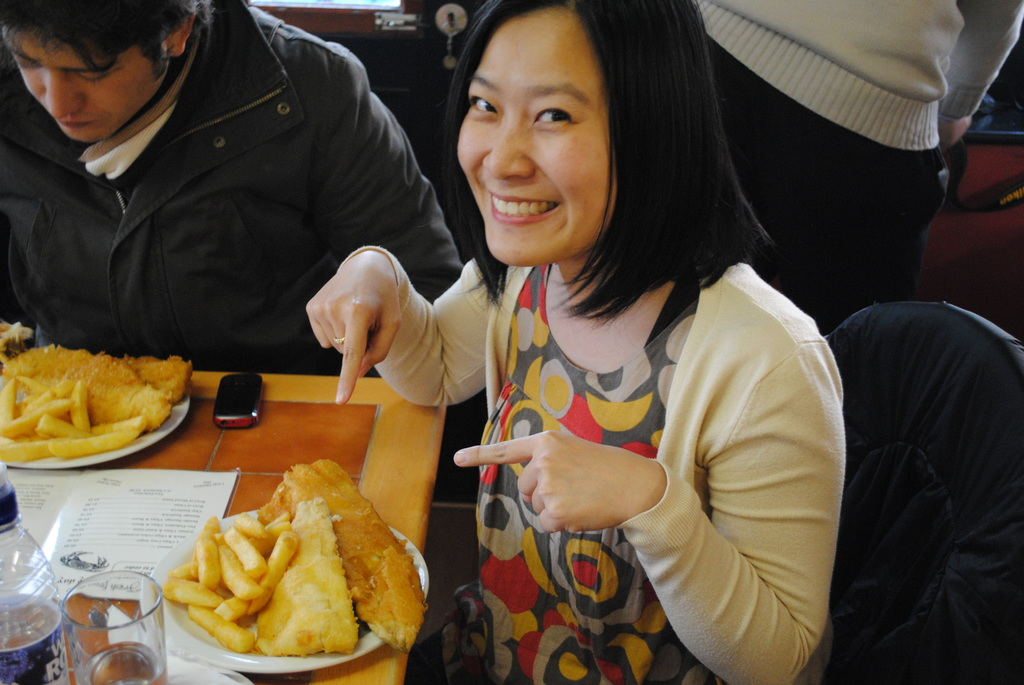French fries: (158, 507, 293, 659), (26, 414, 140, 441), (48, 425, 135, 457), (15, 373, 74, 419), (6, 401, 72, 436), (69, 374, 92, 429), (0, 440, 55, 461), (17, 373, 48, 403), (0, 378, 16, 433)
